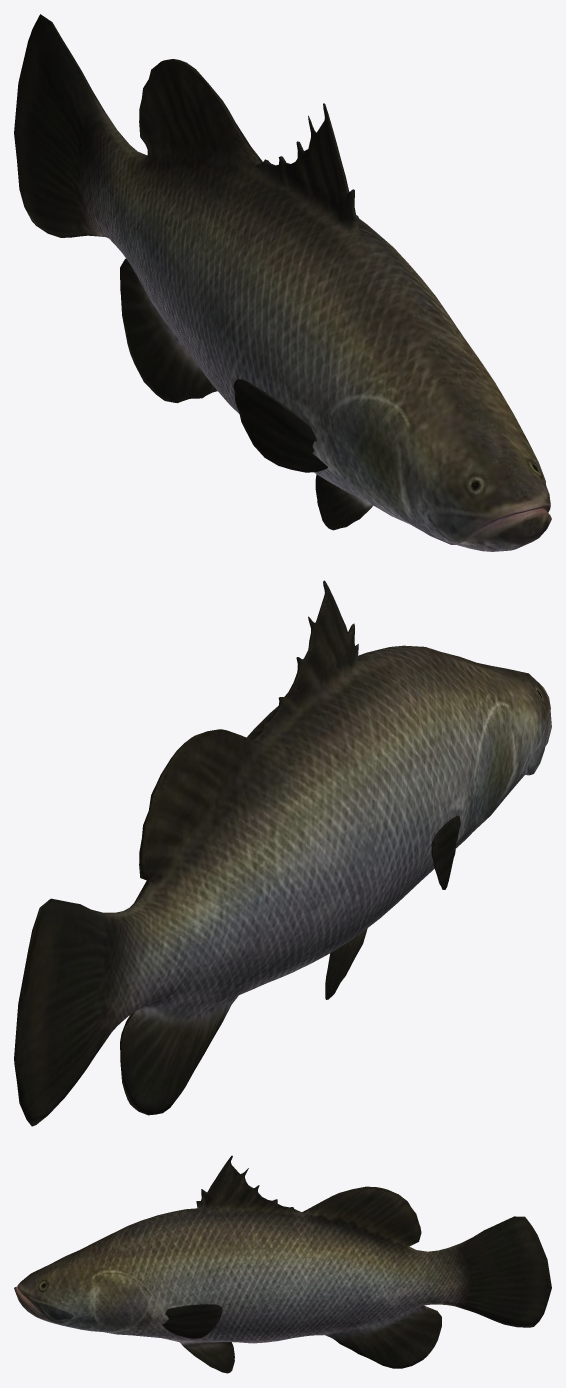
Rendered from barramundi.glb.
3 renders of one model, top to bottom at view 1: azimuth 30°, elevation 25°; view 2: azimuth 150°, elevation 25°; view 3: azimuth 270°, elevation 25°, orthographic. The views are drawn at different scales.
Visible parts, largest first — view 1: BarramundiFish; view 2: BarramundiFish; view 3: BarramundiFish.
Boxes of the visible parts, box(x1,y1,x2,y2) form: BarramundiFish: box(14, 14, 551, 551); BarramundiFish: box(14, 580, 551, 1126); BarramundiFish: box(14, 1155, 551, 1373).
Bounding box in the file's own units: 0.1429 × 0.2875 × 0.6431.
Materials: 1 (1 with a texture image).
